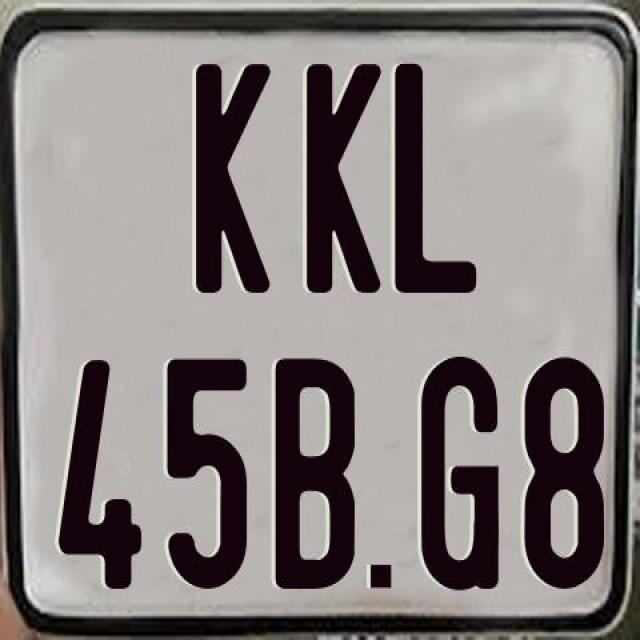4: (57, 358, 147, 596)
5: (166, 354, 250, 588)
8: (522, 353, 606, 592)
B: (274, 356, 358, 588)
G: (417, 357, 503, 590)
K: (304, 62, 387, 292), (194, 61, 274, 296)
L: (393, 62, 478, 301)
